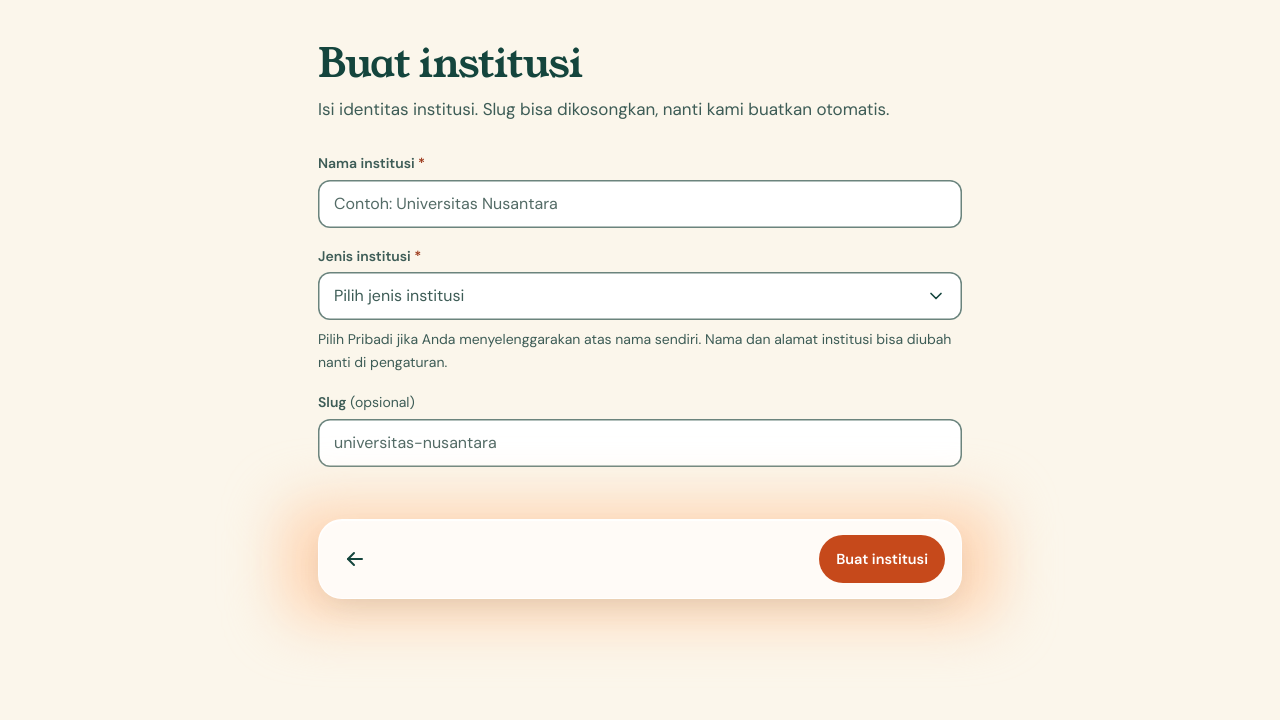
it: the workspace create form › tells a host whose trust staff removed that no new workspace can be made
Type "Ruang Uji" into the field labelled "Nama institusi *".
click(640, 204); type("Ruang Uji")  # box 318,180 -> 962,228
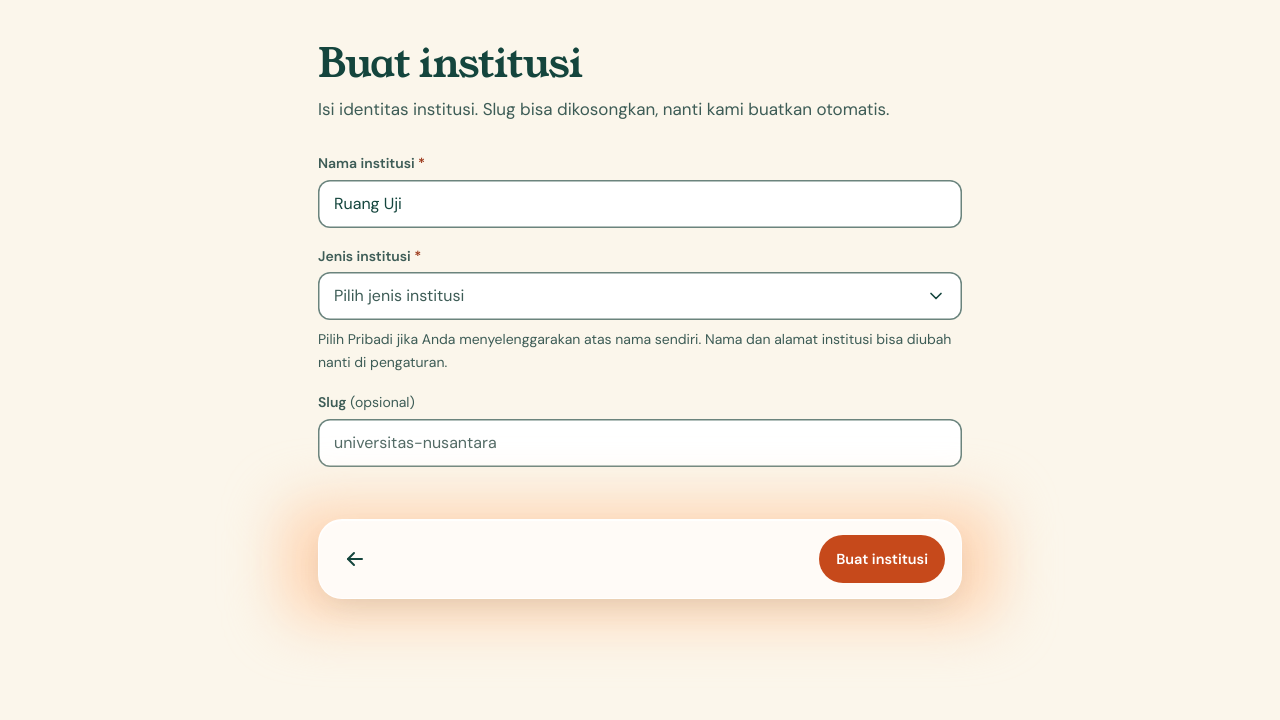
Click the dropdown named "Jenis institusi (wajib)".
click(399, 296)  # box 318,272 -> 962,320
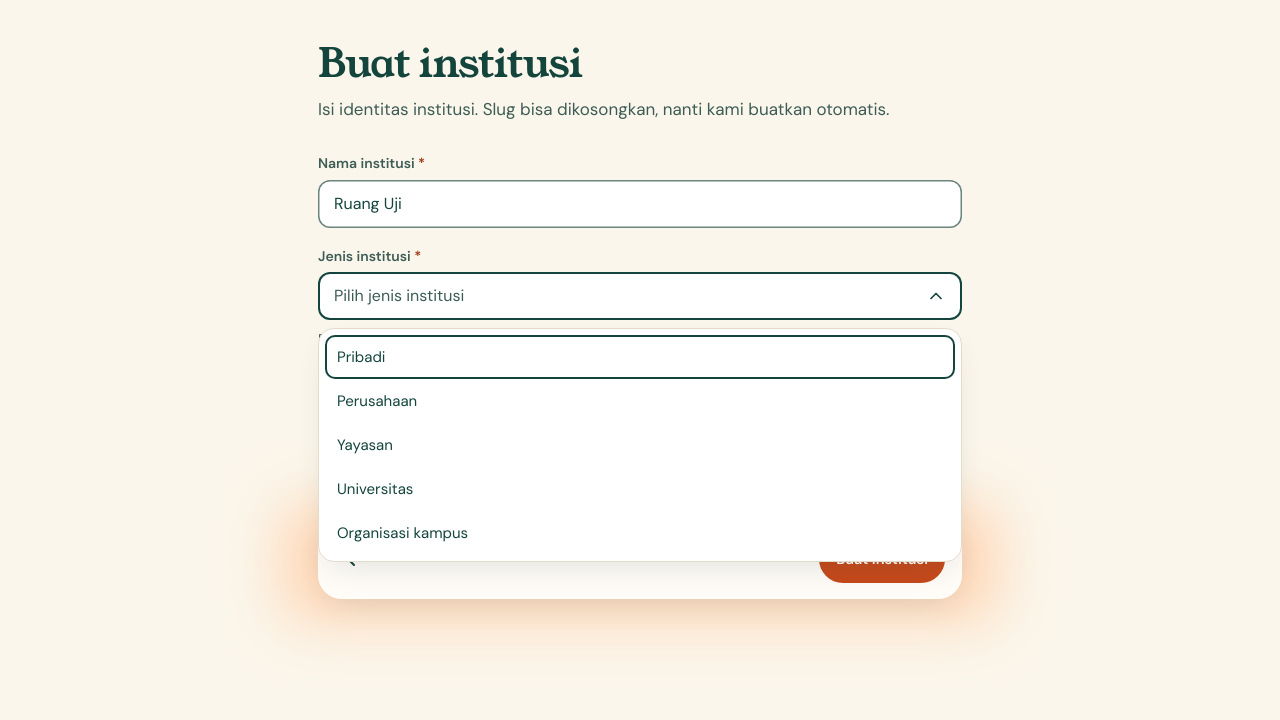
Click the option "Pribadi".
click(361, 357)  # box 337,347 -> 385,367
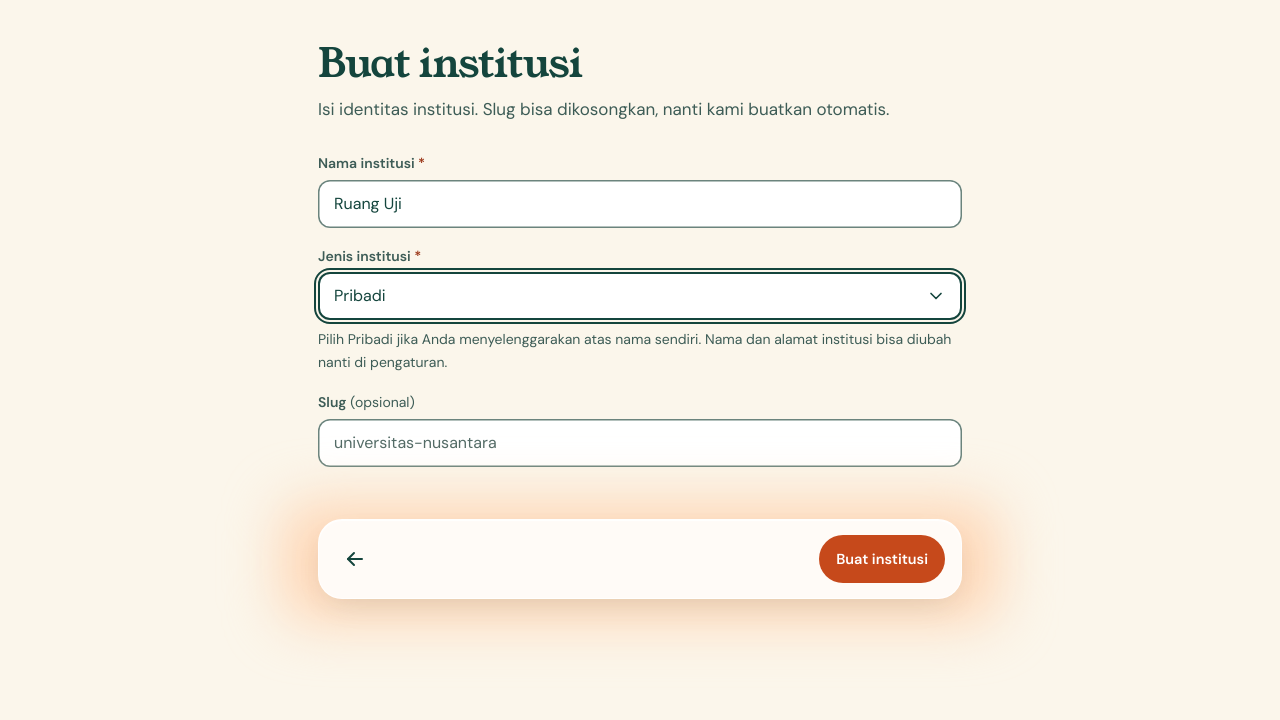
Click the button "Buat institusi".
click(882, 559)  # box 819,535 -> 945,583
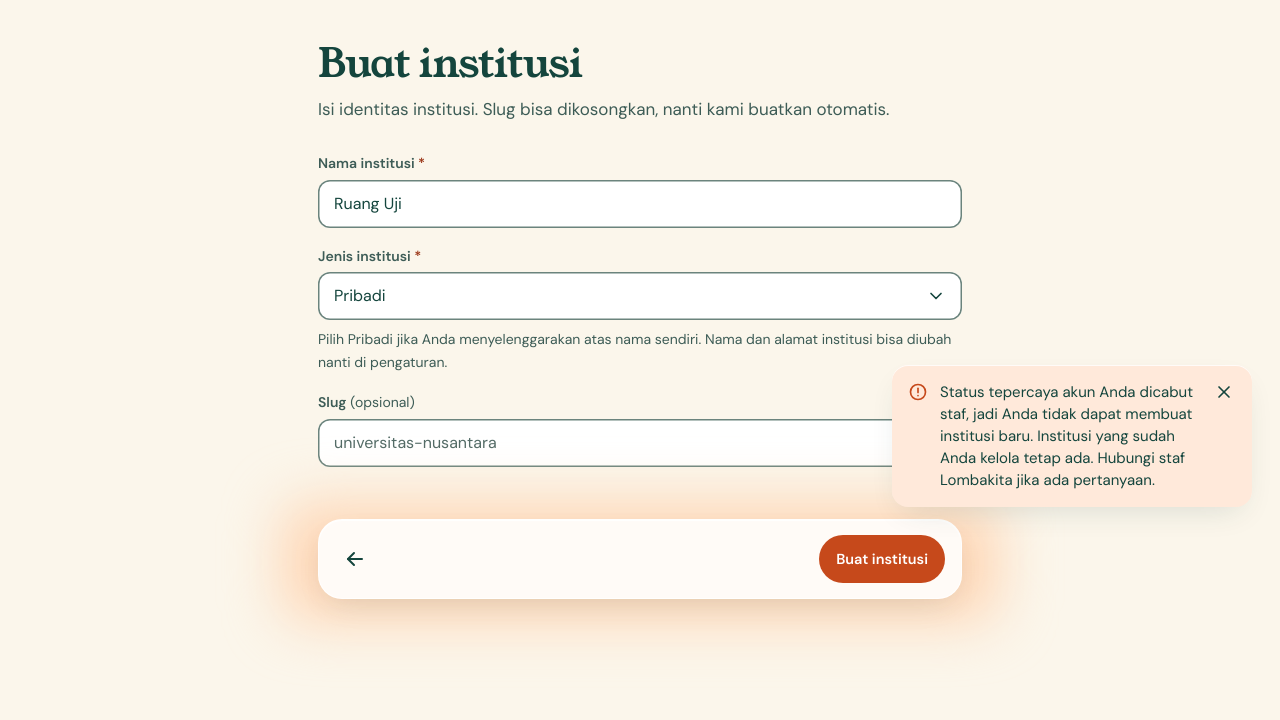
Check: the text "Status tepercaya akun Anda dicabut staf, jadi Anda tidak dapat membuat institusi baru. Institusi yang sudah Anda kelola " is shown, box 940,382 -> 1193,490
